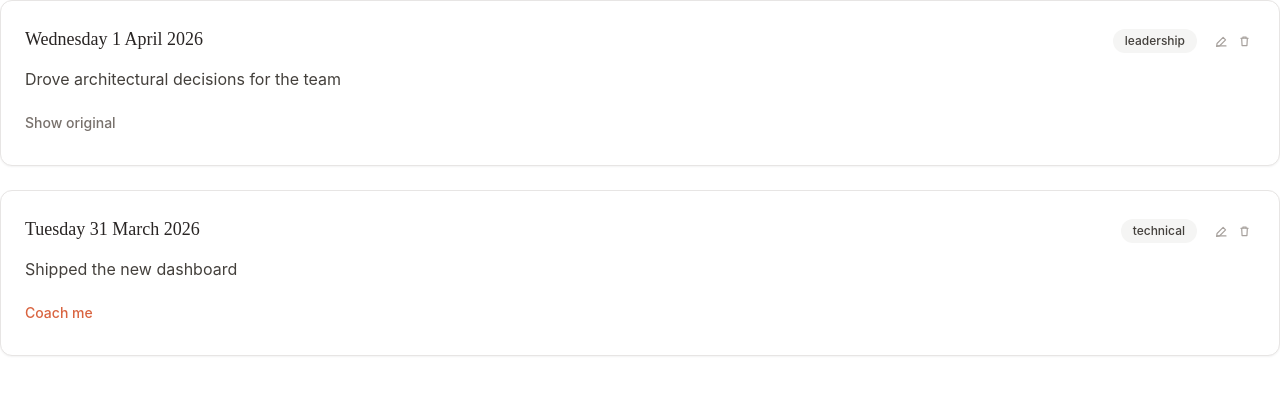
Test case: EntryList — delete flow › Cancel closes the confirm strip without deleting
What coordinates should you click on to do the following:
click the button named "Delete entry" next to "leadership"
I would click on:
 (1244, 41)
Its box is [1234, 30, 1255, 52].
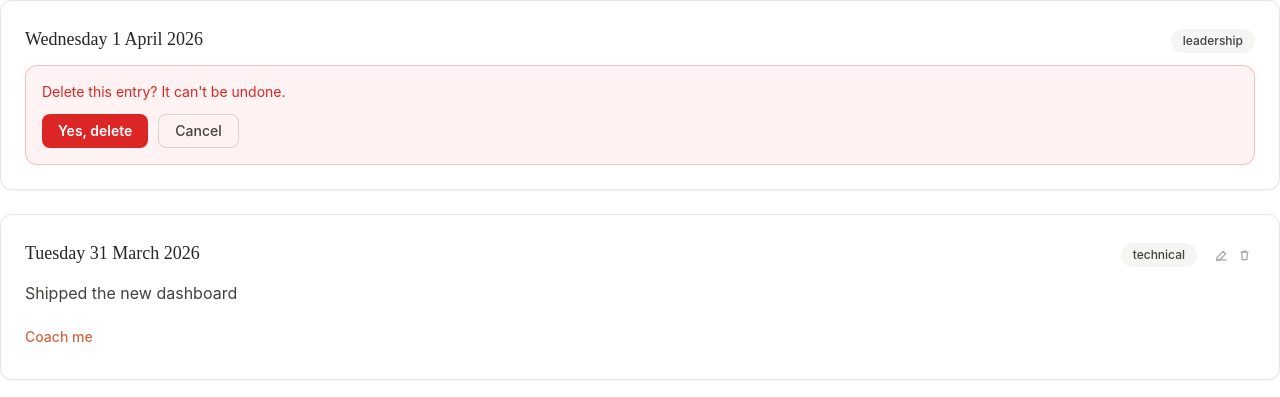
What coordinates should you click on to do the following:
click the button "Cancel"
I would click on:
 (199, 131)
Its box is [158, 114, 239, 148].
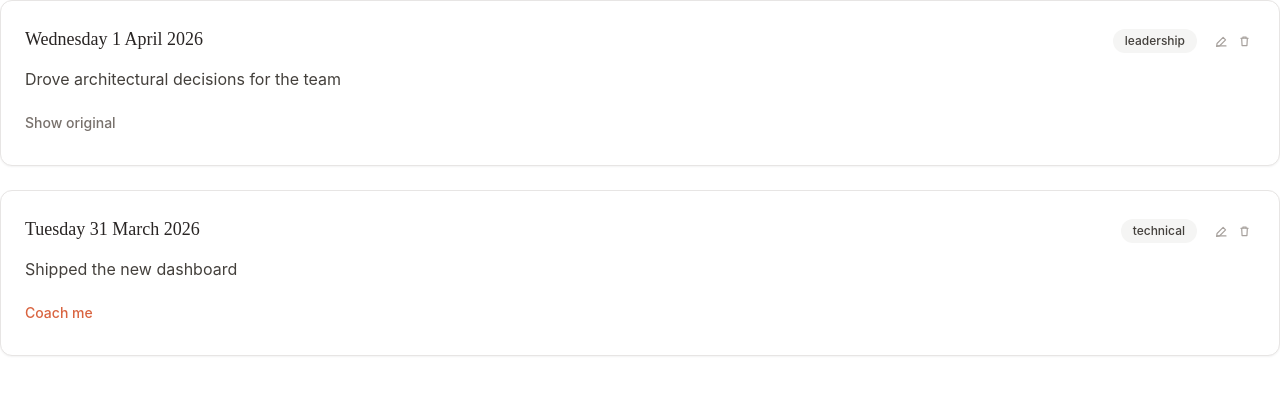
Check: the text "Delete this entry? It can't be undone." is gone
